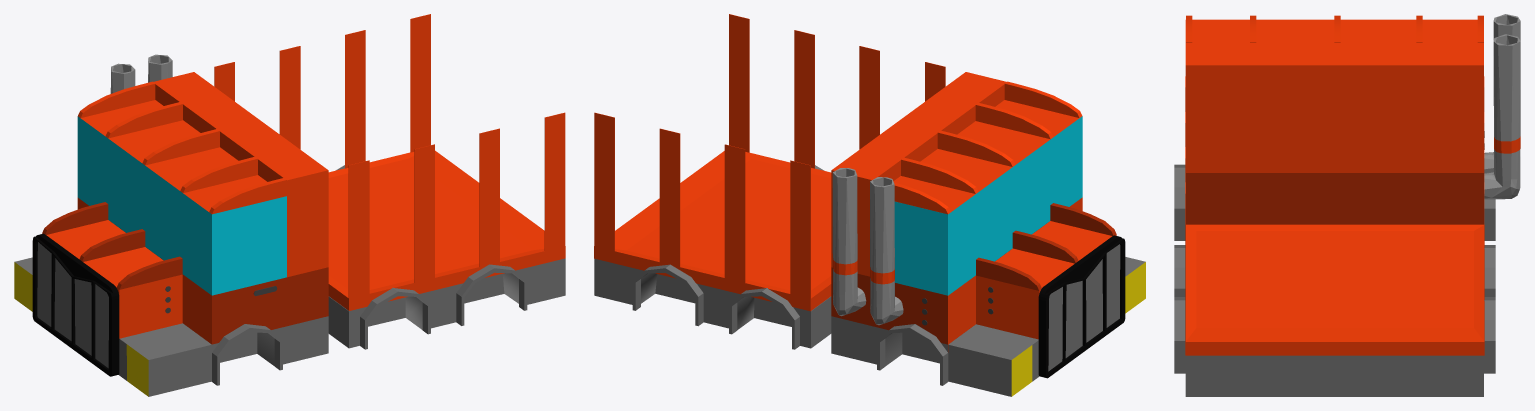
File: Grua_Zona1_Enviada.fbx
The picture shows the model from 3 angles, left to right: view 1: azimuth 30°, elevation 25°; view 2: azimuth 150°, elevation 25°; view 3: azimuth 270°, elevation 25°; orthographic projection. The views are drawn at different scales.
Visible parts, largest first — view 1: Grua_Zona1; view 2: Grua_Zona1; view 3: Grua_Zona1.
Part boxes in pixels (bbox=[...]): Grua_Zona1: bbox=[14, 14, 565, 396]; Grua_Zona1: bbox=[594, 14, 1145, 396]; Grua_Zona1: bbox=[1174, 14, 1520, 396].
Size of the model in its own units: 1343 by 586 by 854.
